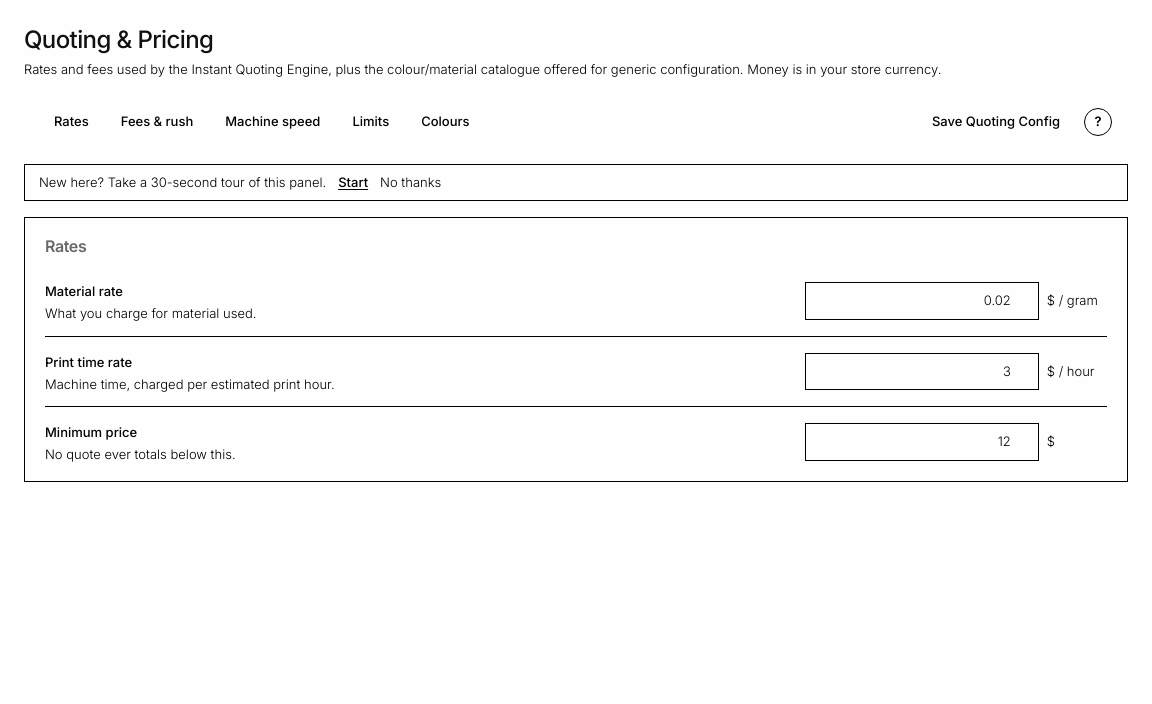
Test case: QuotingPricingManagement — sub-view tabs › shows Rates by default and switches groups through the tabs
Expected: the number field labelled "Material rate" holds "0.02", [805,282,1039,320]
Expected: the number field labelled "Minimum price" holds "12", [805,423,1039,460]
Click the tab "Fees & rush". click: (157, 122)
box: [107,106,207,138]
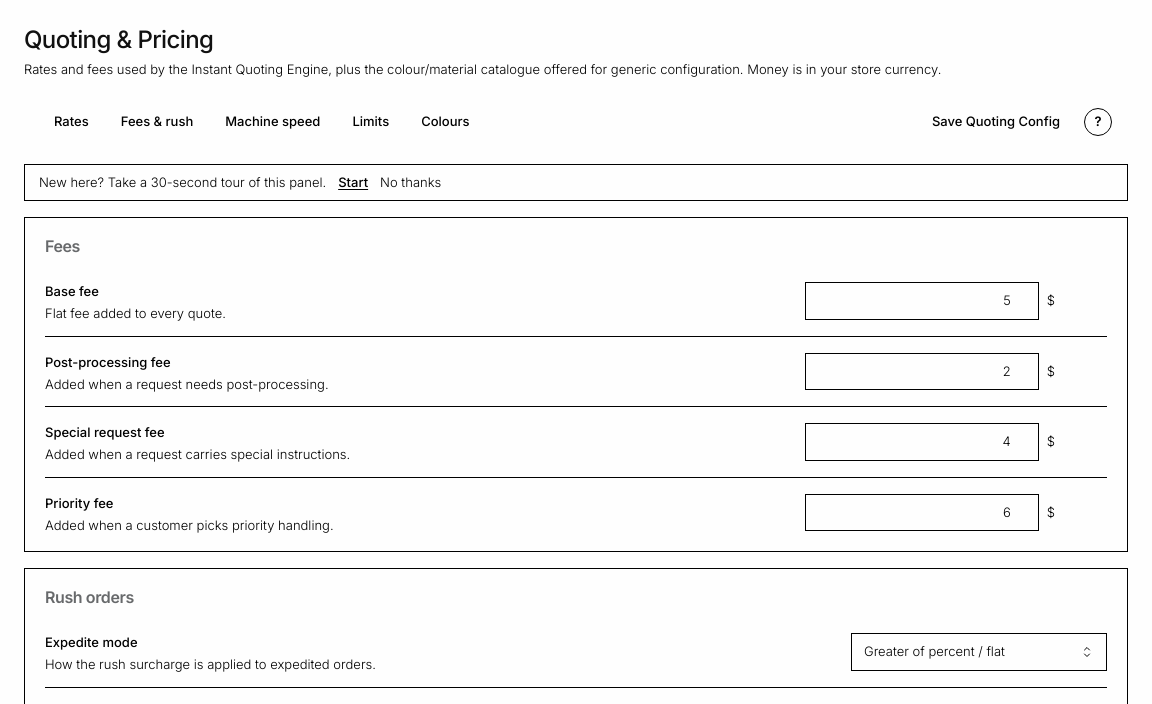
Expected: the number field labelled "Base fee" holds "5", [805,282,1039,320]
Expected: the label labelled "Material rate" is gone
Click the tab "Machine speed". click: (273, 122)
box: [211,106,334,138]
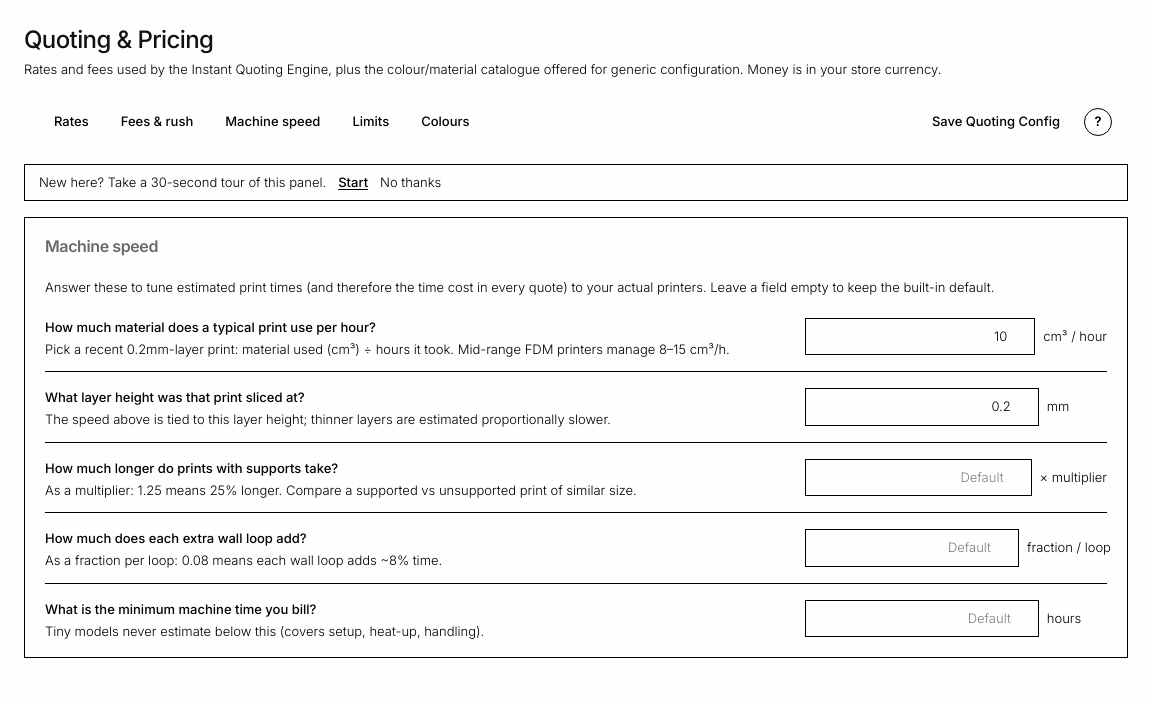
Expected: the number field labelled "How much material does a typical print use per hour?" holds "10", [805,318,1035,355]
Click the tab "Limits". click: (371, 122)
box: [338,106,403,138]
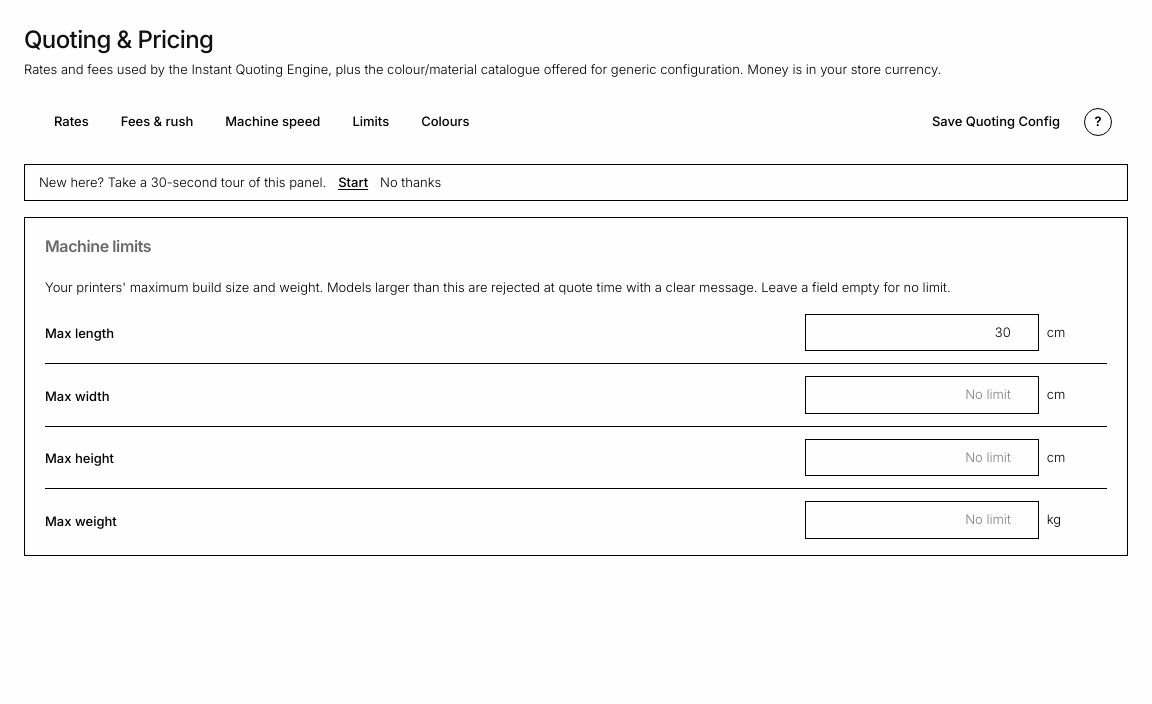
Expected: the number field labelled "Max length" holds "30", [805,314,1039,351]
Click the tab "Colours". click: (445, 122)
box: [407,106,484,138]
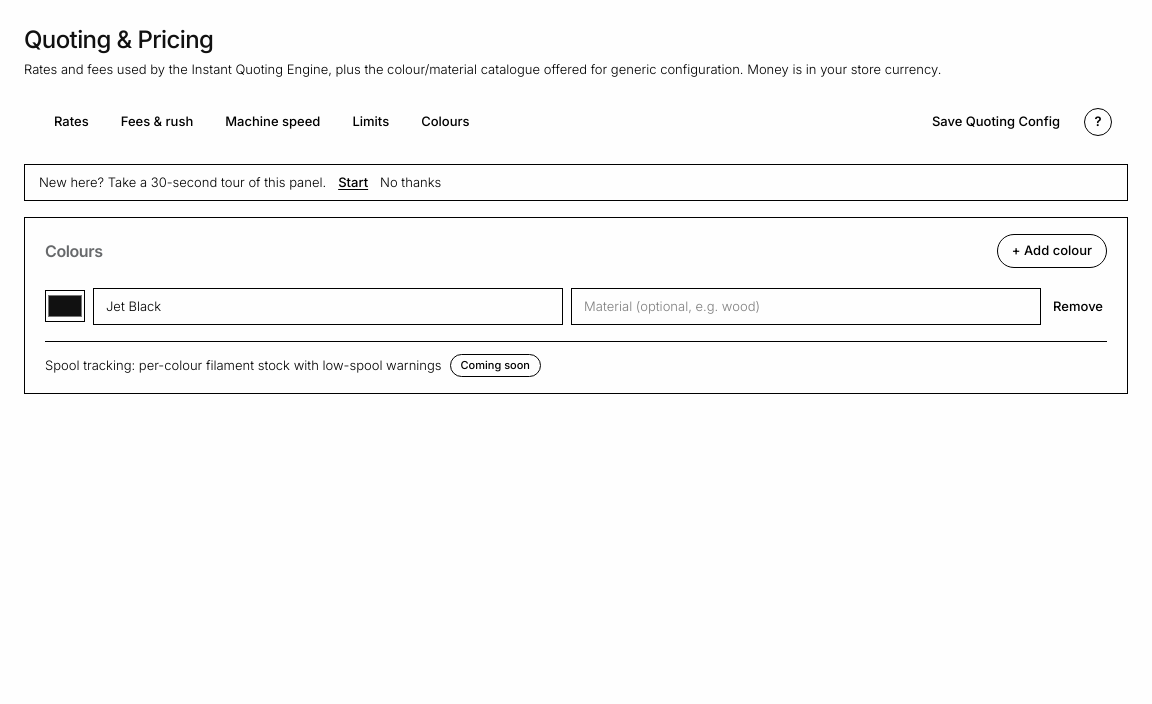
Expected: the field named "Colour name" holds "Jet Black", [93,288,563,325]
